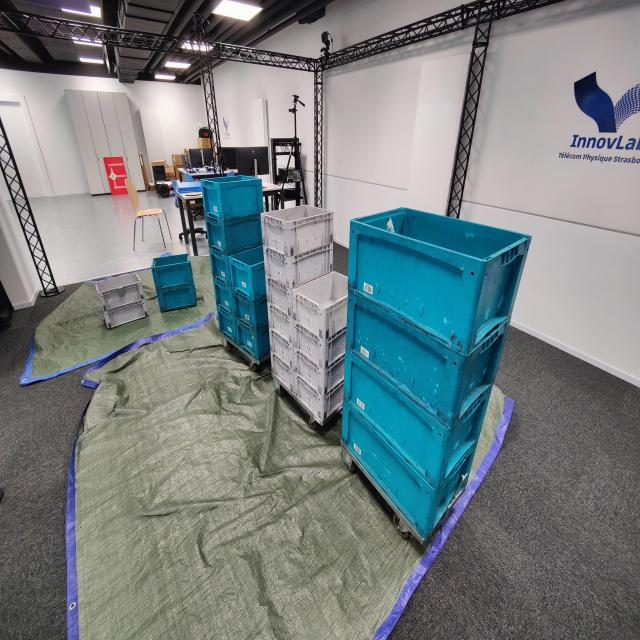Box8G: (262, 204, 336, 255), (293, 270, 347, 339), (262, 244, 336, 288), (295, 350, 347, 398), (296, 324, 349, 366), (294, 382, 349, 418), (265, 275, 295, 320), (264, 304, 298, 342), (268, 328, 296, 372), (269, 349, 295, 396)
BoxB4: (348, 203, 534, 353), (346, 286, 512, 429), (340, 348, 495, 492), (339, 395, 481, 542)
BoxB8: (200, 174, 264, 220), (203, 216, 270, 258), (225, 242, 267, 292), (151, 252, 195, 290), (153, 283, 203, 316), (236, 327, 271, 358), (235, 296, 268, 328), (212, 280, 238, 317), (217, 303, 241, 343), (209, 251, 233, 285)
